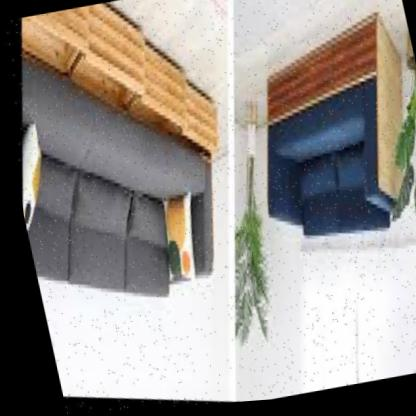Sofa: (0, 0, 283, 343), (198, 0, 416, 309)
